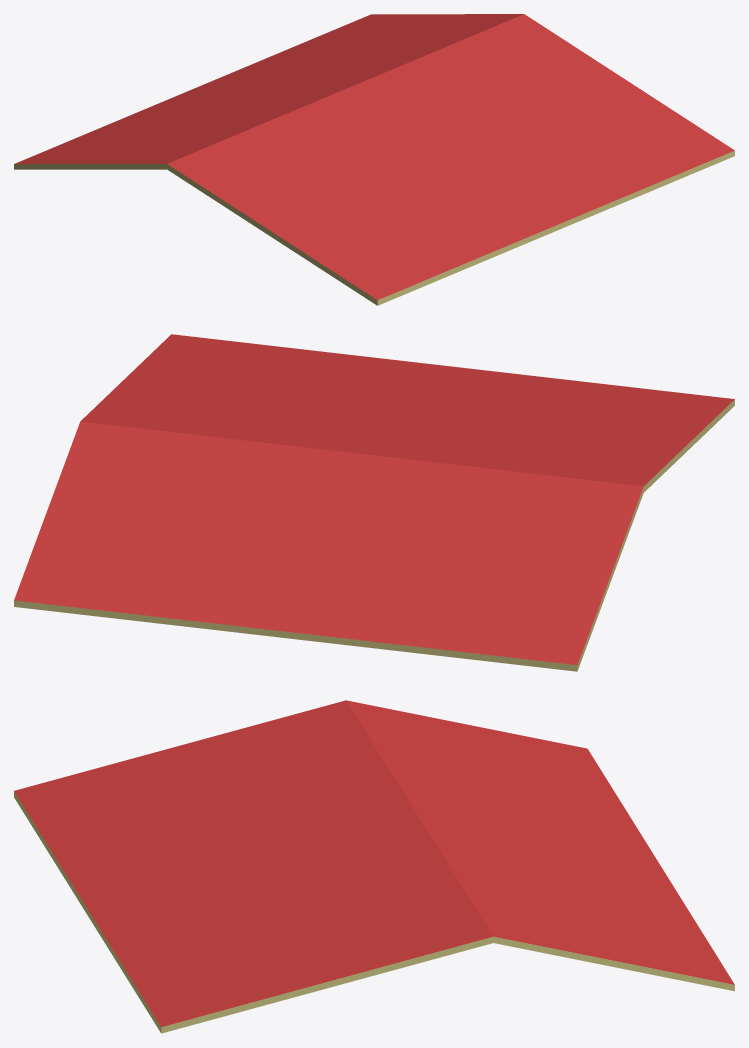
3 renders of one model, top to bottom at view 1: azimuth 30°, elevation 25°; view 2: azimuth 150°, elevation 25°; view 3: azimuth 270°, elevation 25°, orthographic. The views are drawn at different scales.
Size of the model in its own units: 9.94 by 10.09 by 1.26.
